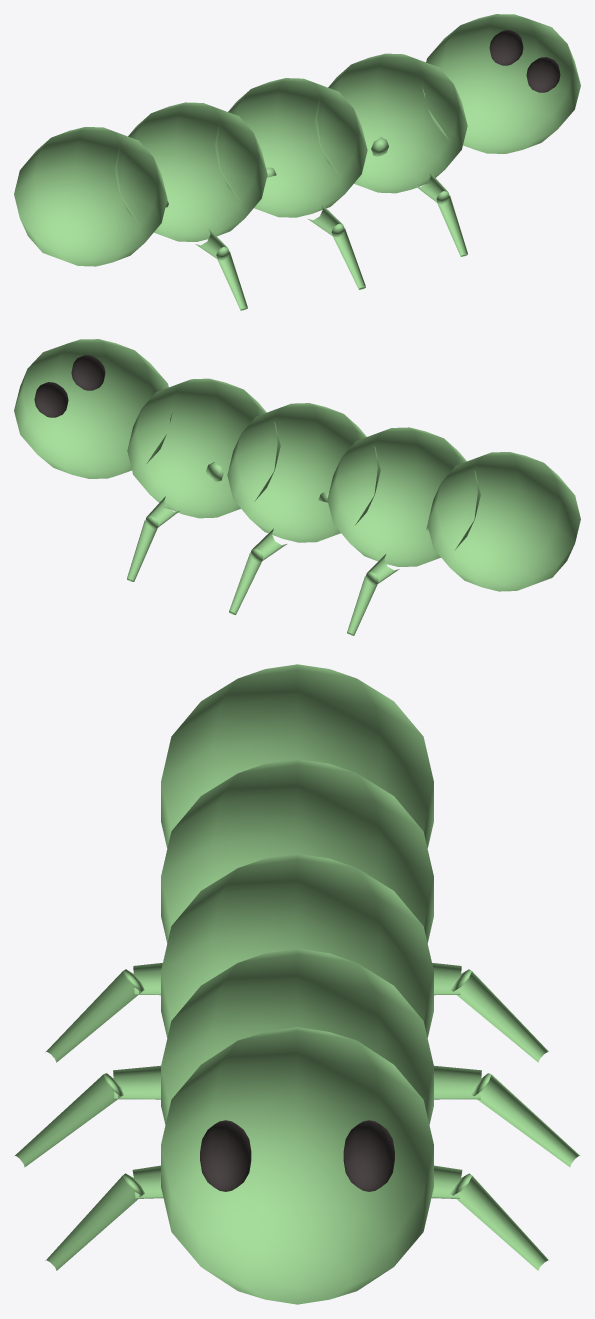
Rendered from prey.glb.
3 views of the same model, one above another, from view 1: azimuth 30°, elevation 25°; view 2: azimuth 150°, elevation 25°; view 3: azimuth 270°, elevation 25° (orthographic). The views are drawn at different scales.
Visible parts, largest first — view 1: Segment0, HeadShell, Segment1, Segment2, Segment3, EyeL, EyeR, TibiaLegL1, TibiaLegL2, TibiaLegL3, FemurLegL2, FemurLegL1 (+1 smaller); view 2: Segment0, HeadShell, Segment1, Segment2, Segment3, EyeL, EyeR, TibiaLegR1, TibiaLegR2, TibiaLegR3, FemurLegR2, FemurLegR1 (+1 smaller); view 3: HeadShell, Segment1, Segment0, Segment2, Segment3, EyeL, EyeR, TibiaLegL2, TibiaLegR2, TibiaLegL1, TibiaLegR1, TibiaLegL3 (+3 smaller).
Part boxes in pixels (<box>): Segment0: <box>14,127,167,266</box>; HeadShell: <box>422,14,580,153</box>; Segment1: <box>114,102,267,241</box>; Segment2: <box>214,78,367,217</box>; Segment3: <box>314,53,467,193</box>; EyeL: <box>526,57,560,92</box>; EyeR: <box>489,30,523,65</box>; TibiaLegL1: <box>436,195,467,256</box>; TibiaLegL2: <box>332,228,365,289</box>; TibiaLegL3: <box>216,251,247,310</box>; FemurLegL2: <box>308,203,344,237</box>; FemurLegL1: <box>415,171,449,204</box>; Segment0: <box>427,452,580,591</box>; HeadShell: <box>14,339,172,478</box>; Segment1: <box>327,427,480,566</box>; Segment2: <box>227,403,380,542</box>; Segment3: <box>127,378,280,518</box>; EyeL: <box>71,355,105,390</box>; EyeR: <box>34,382,68,417</box>; TibiaLegR1: <box>127,520,158,581</box>; TibiaLegR2: <box>229,553,262,614</box>; TibiaLegR3: <box>347,576,378,635</box>; FemurLegR2: <box>250,528,286,562</box>; FemurLegR1: <box>145,496,179,529</box>; HeadShell: <box>161,1027,433,1304</box>; Segment1: <box>161,759,433,942</box>; Segment0: <box>161,664,433,848</box>; Segment2: <box>161,854,433,1037</box>; Segment3: <box>161,948,433,1124</box>; EyeL: <box>200,1120,251,1191</box>; EyeR: <box>343,1120,394,1191</box>; TibiaLegL2: <box>15,1073,123,1167</box>; TibiaLegR2: <box>471,1073,579,1167</box>; TibiaLegL1: <box>45,1173,144,1270</box>; TibiaLegR1: <box>450,1173,549,1270</box>; TibiaLegL3: <box>45,969,144,1062</box>.
Bounding box in the file's own units: 1 × 0.2885 × 0.4597.
